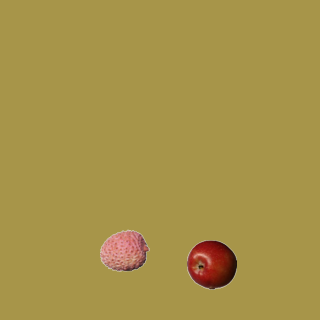Apple Braeburn: (186, 239, 236, 289)
Lychee: (99, 225, 149, 275)
